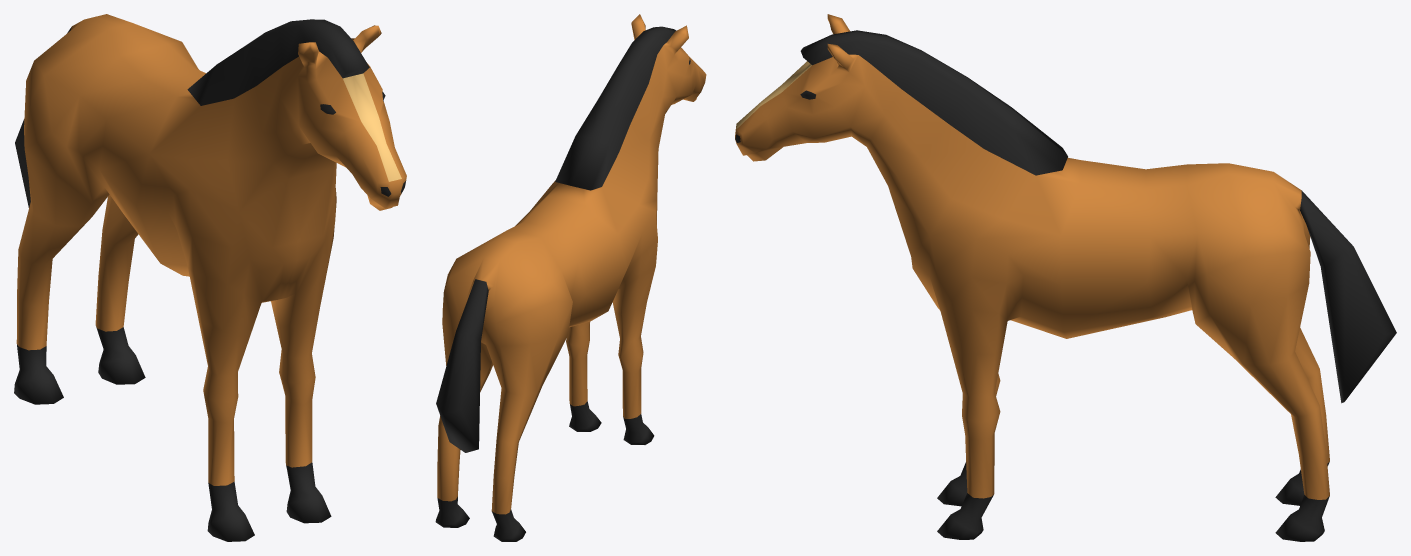
The model's file is Western_Horse.fbx.
3 renders of one model, left to right at view 1: azimuth 30°, elevation 25°; view 2: azimuth 150°, elevation 25°; view 3: azimuth 270°, elevation 25°, orthographic. The views are drawn at different scales.
Visible parts, largest first — view 1: horse; view 2: horse; view 3: horse.
Part boxes in pixels (x1=…): horse: x1=14, y1=14, x2=406, y2=541; horse: x1=435, y1=14, x2=706, y2=541; horse: x1=735, y1=14, x2=1396, y2=541.
Bounding box in the file's own units: 67.17 × 209 × 257.
Materials: 1 (1 with a texture image).
